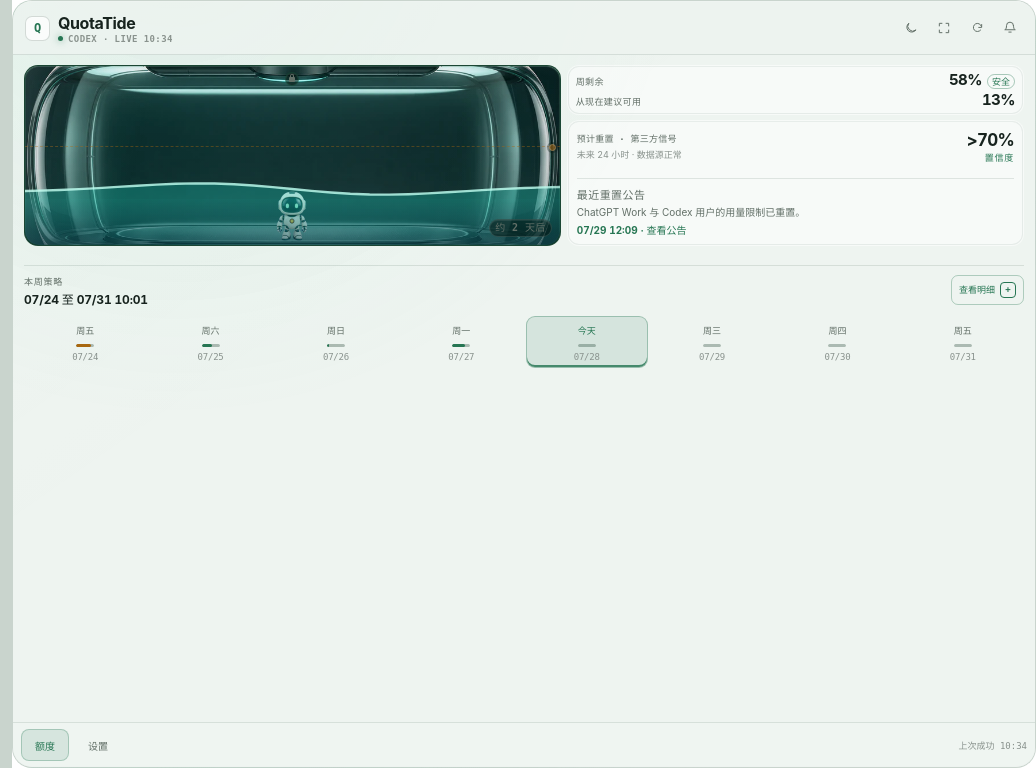
Test case: Weekly Ledger overview › labels a mid-window baseline as quota suggested from now
Check: the text "从现在建议可用" is shown, box x1=576 y1=97 x2=641 y2=107
Hover over the element with class "ledger-day" showing "今天 07/28": (587, 342) x1=526 y1=316 x2=648 y2=368
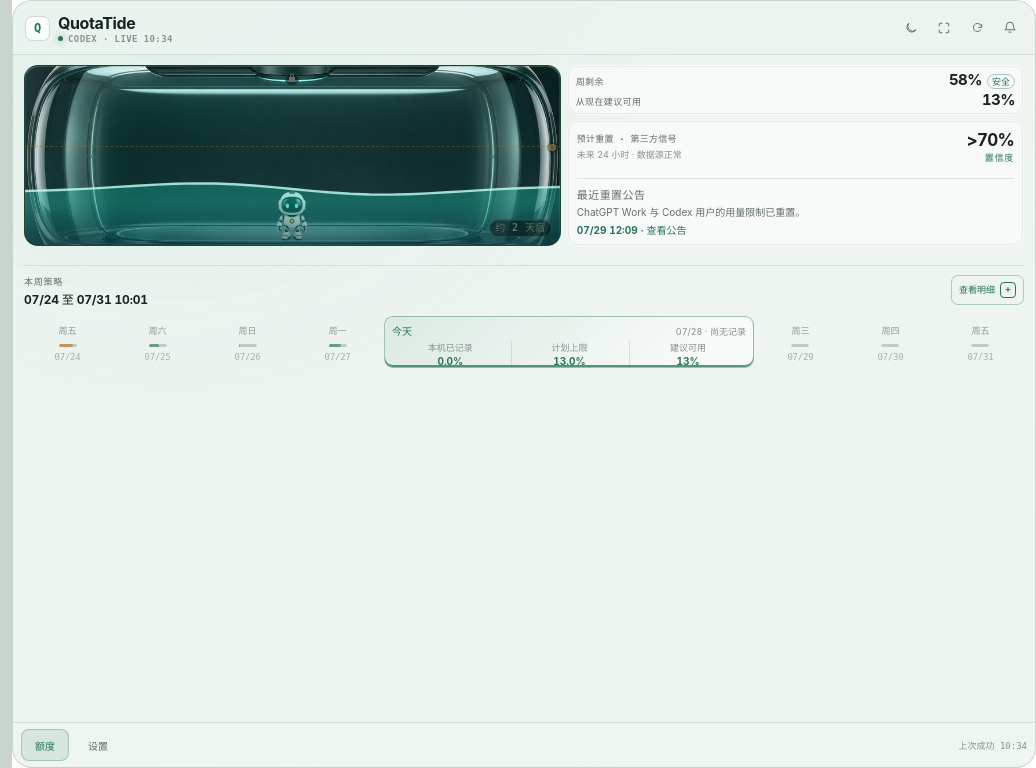
Click the button "查看明细": (988, 290) x1=951 y1=275 x2=1024 y2=305
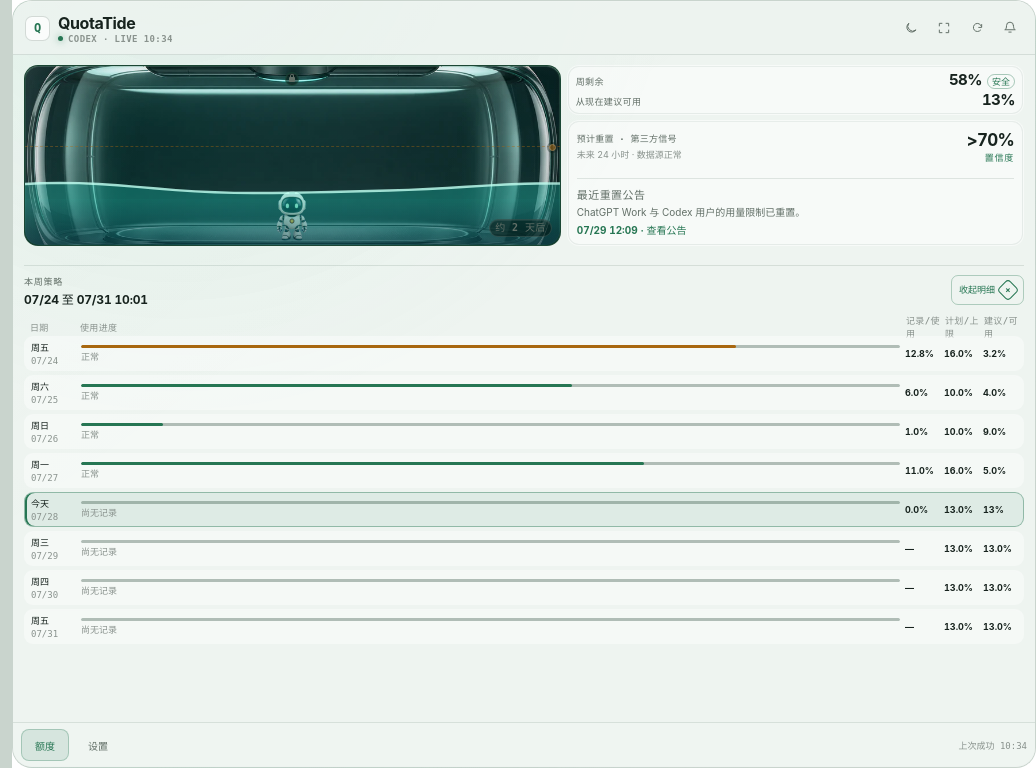
Check: the list item with aria-label "周三 07/29 · 尚无记录" shows "13.0%", box x1=944 y1=543 x2=973 y2=554
